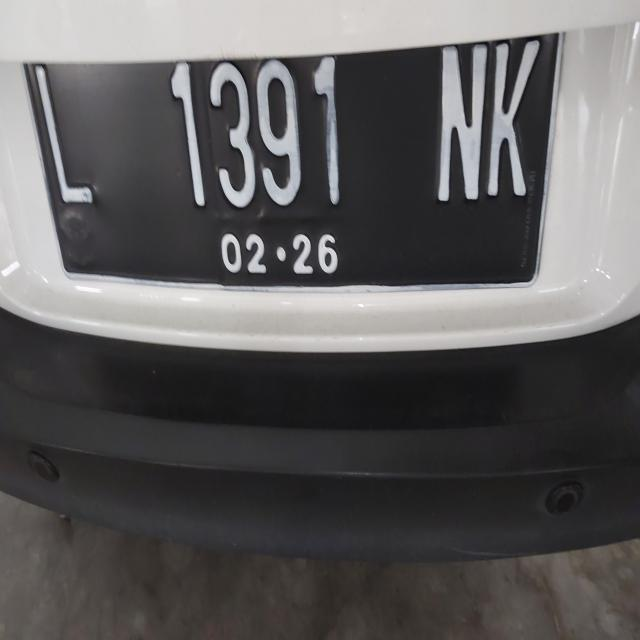1: (160, 65, 210, 221), (306, 59, 352, 216)
3: (212, 65, 256, 222)
9: (256, 65, 304, 217)
K: (487, 39, 544, 218)
L: (27, 61, 108, 238)
N: (438, 46, 489, 225)
